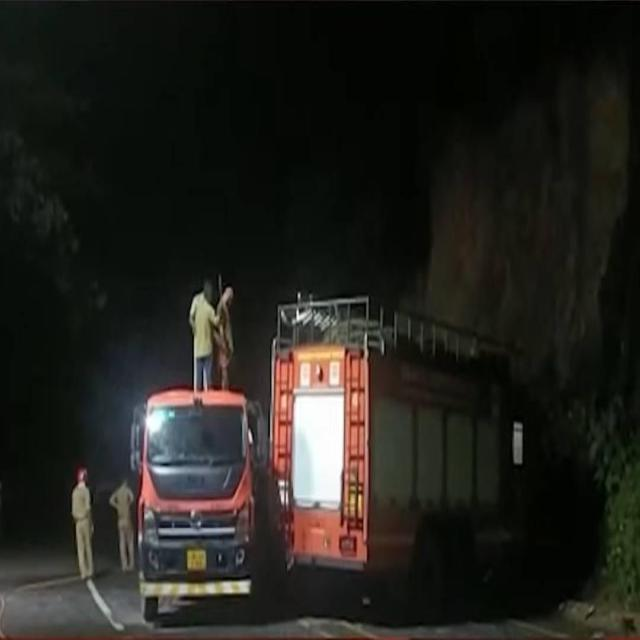emergency: (262, 297, 520, 620)
truck: (131, 389, 264, 620)
